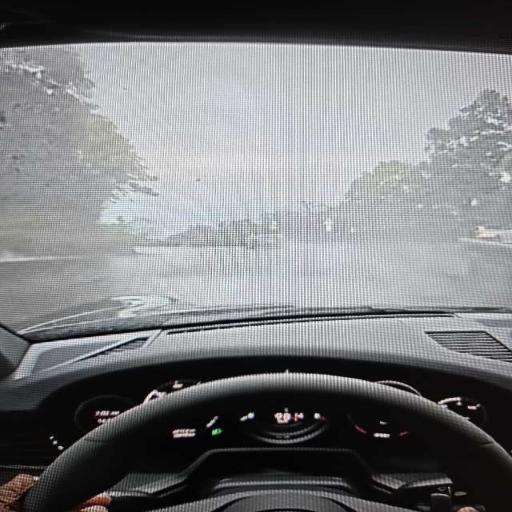car: (0, 4, 511, 511)
lane: (0, 240, 511, 328)
person: (0, 475, 36, 511)
